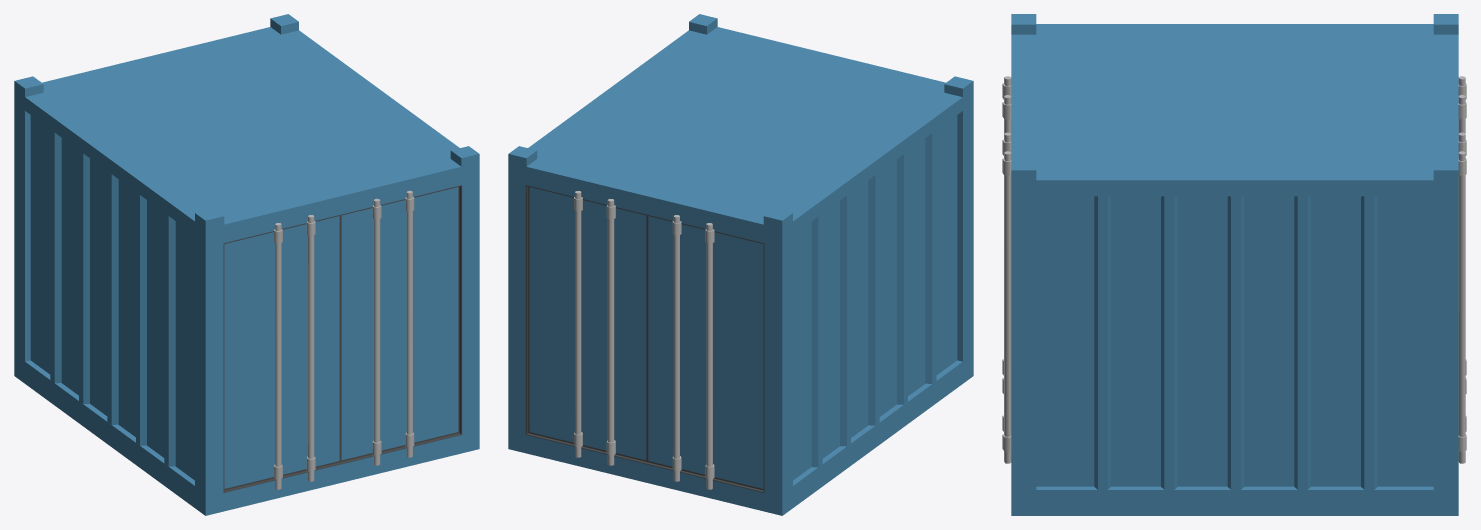
File: container_small.fbx
3 renders of one model, left to right at view 1: azimuth 30°, elevation 25°; view 2: azimuth 150°, elevation 25°; view 3: azimuth 270°, elevation 25°, orthographic. The views are drawn at different scales.
Parts seen in each view (by area): view 1: sweet_ass_container; view 2: sweet_ass_container; view 3: sweet_ass_container.
Part boxes in pixels (<box>): sweet_ass_container: <box>14,14,479,515</box>; sweet_ass_container: <box>508,14,973,515</box>; sweet_ass_container: <box>1002,14,1466,515</box>.
Size of the model in its own units: 1 by 1.03 by 1.25.
1 material, 1 textured.
